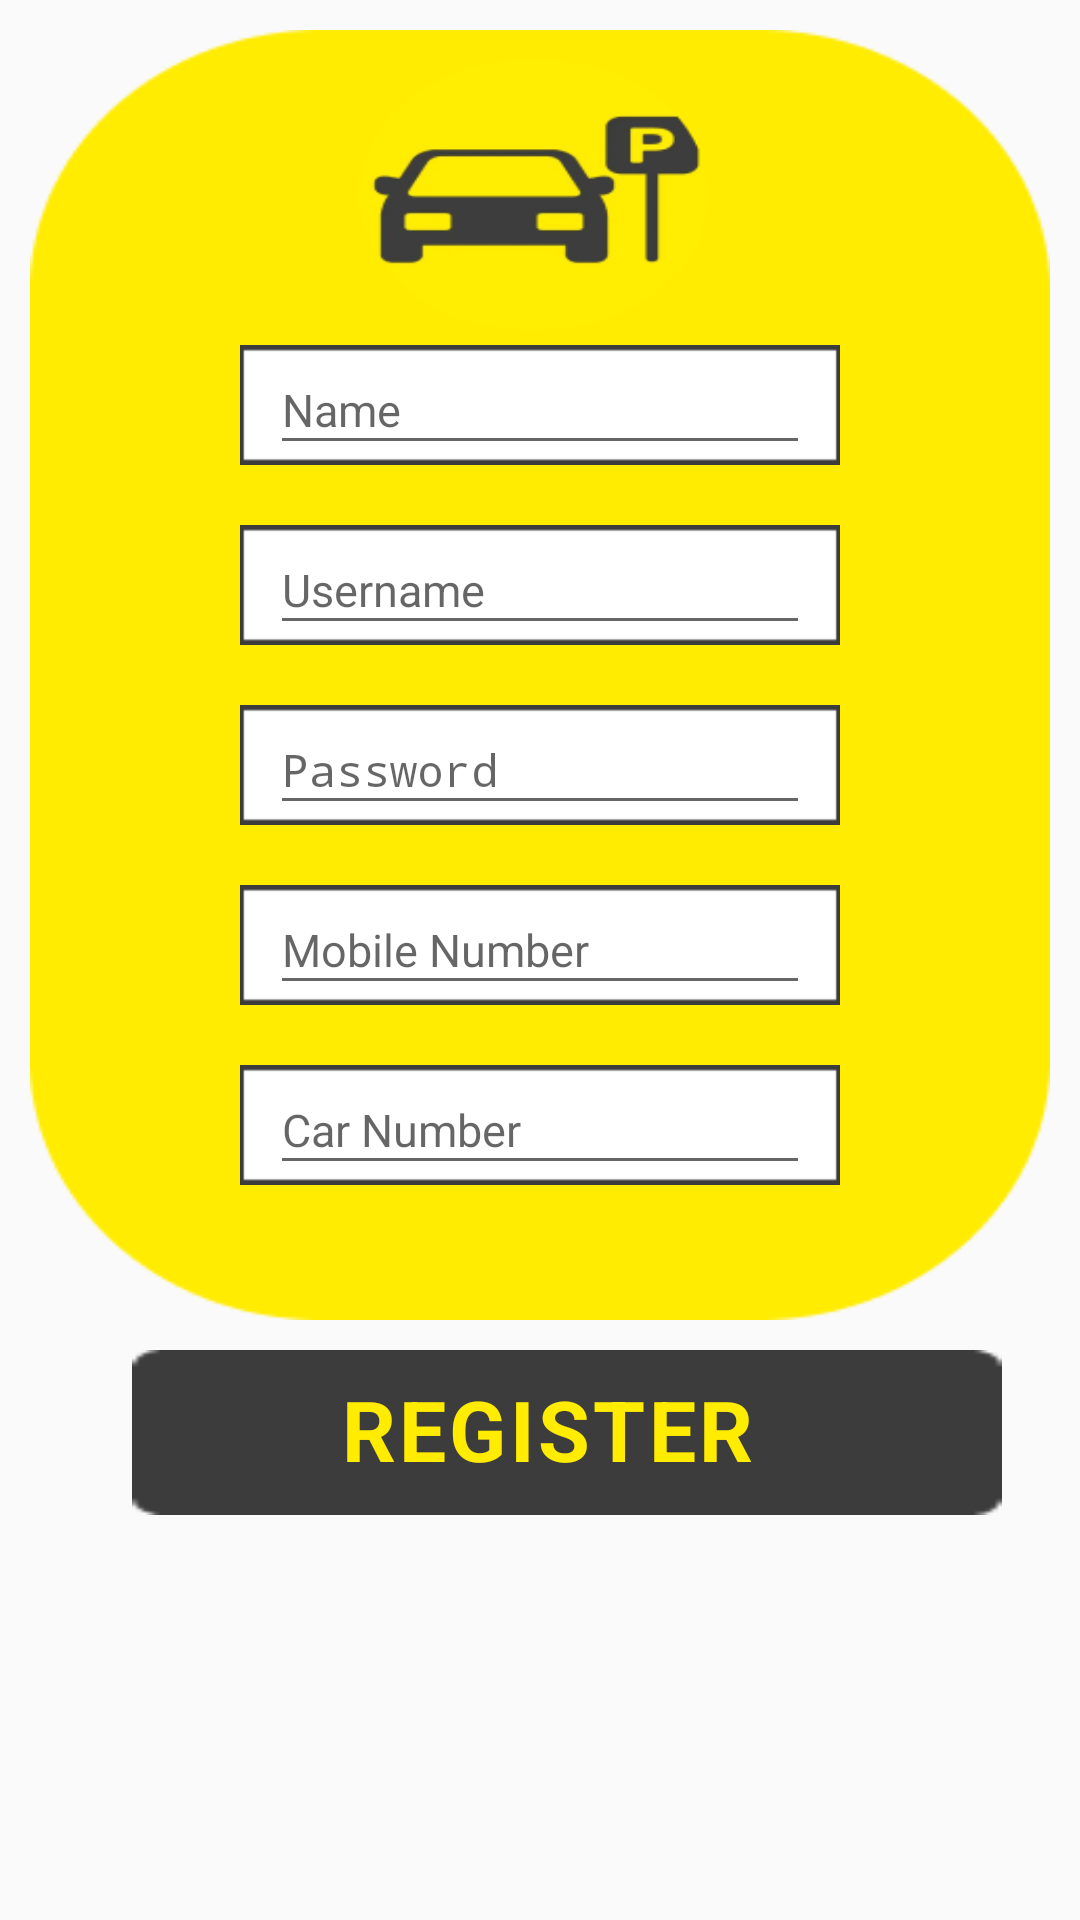

Icon bounding boxes for this 1080*1920 phone screenshot, format (x1=x1, y1=y1, x2=x2, y2=y2):
smallparking: (x1=373, y1=116, x2=700, y2=264)
